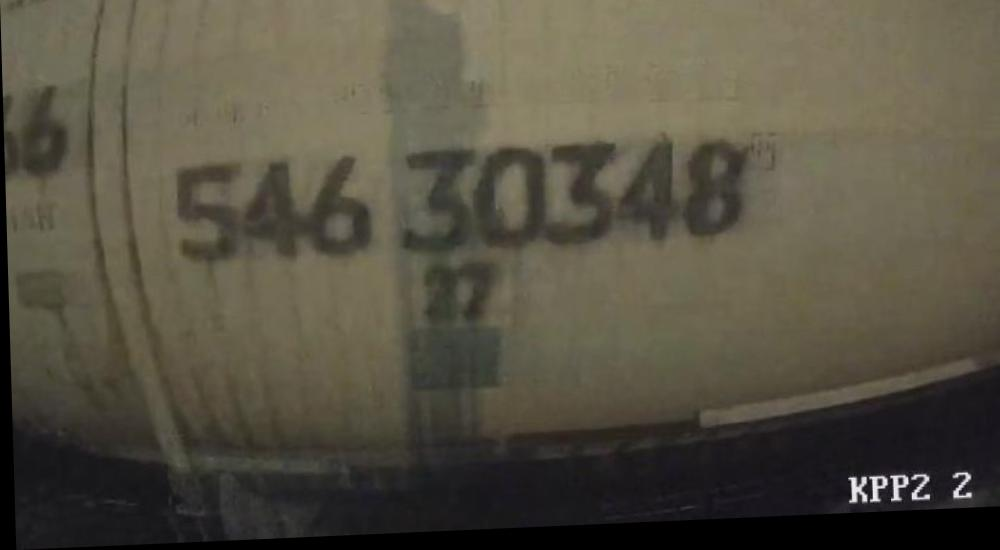Wagon-number: (169, 137, 754, 275)
